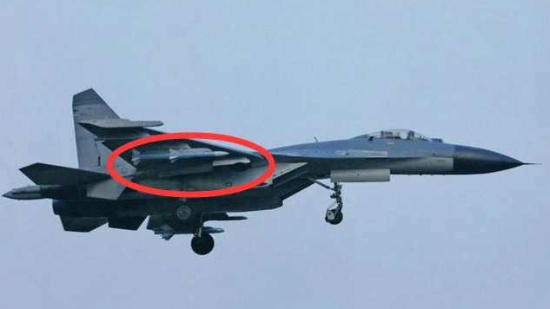airplane: (2, 86, 538, 256)
